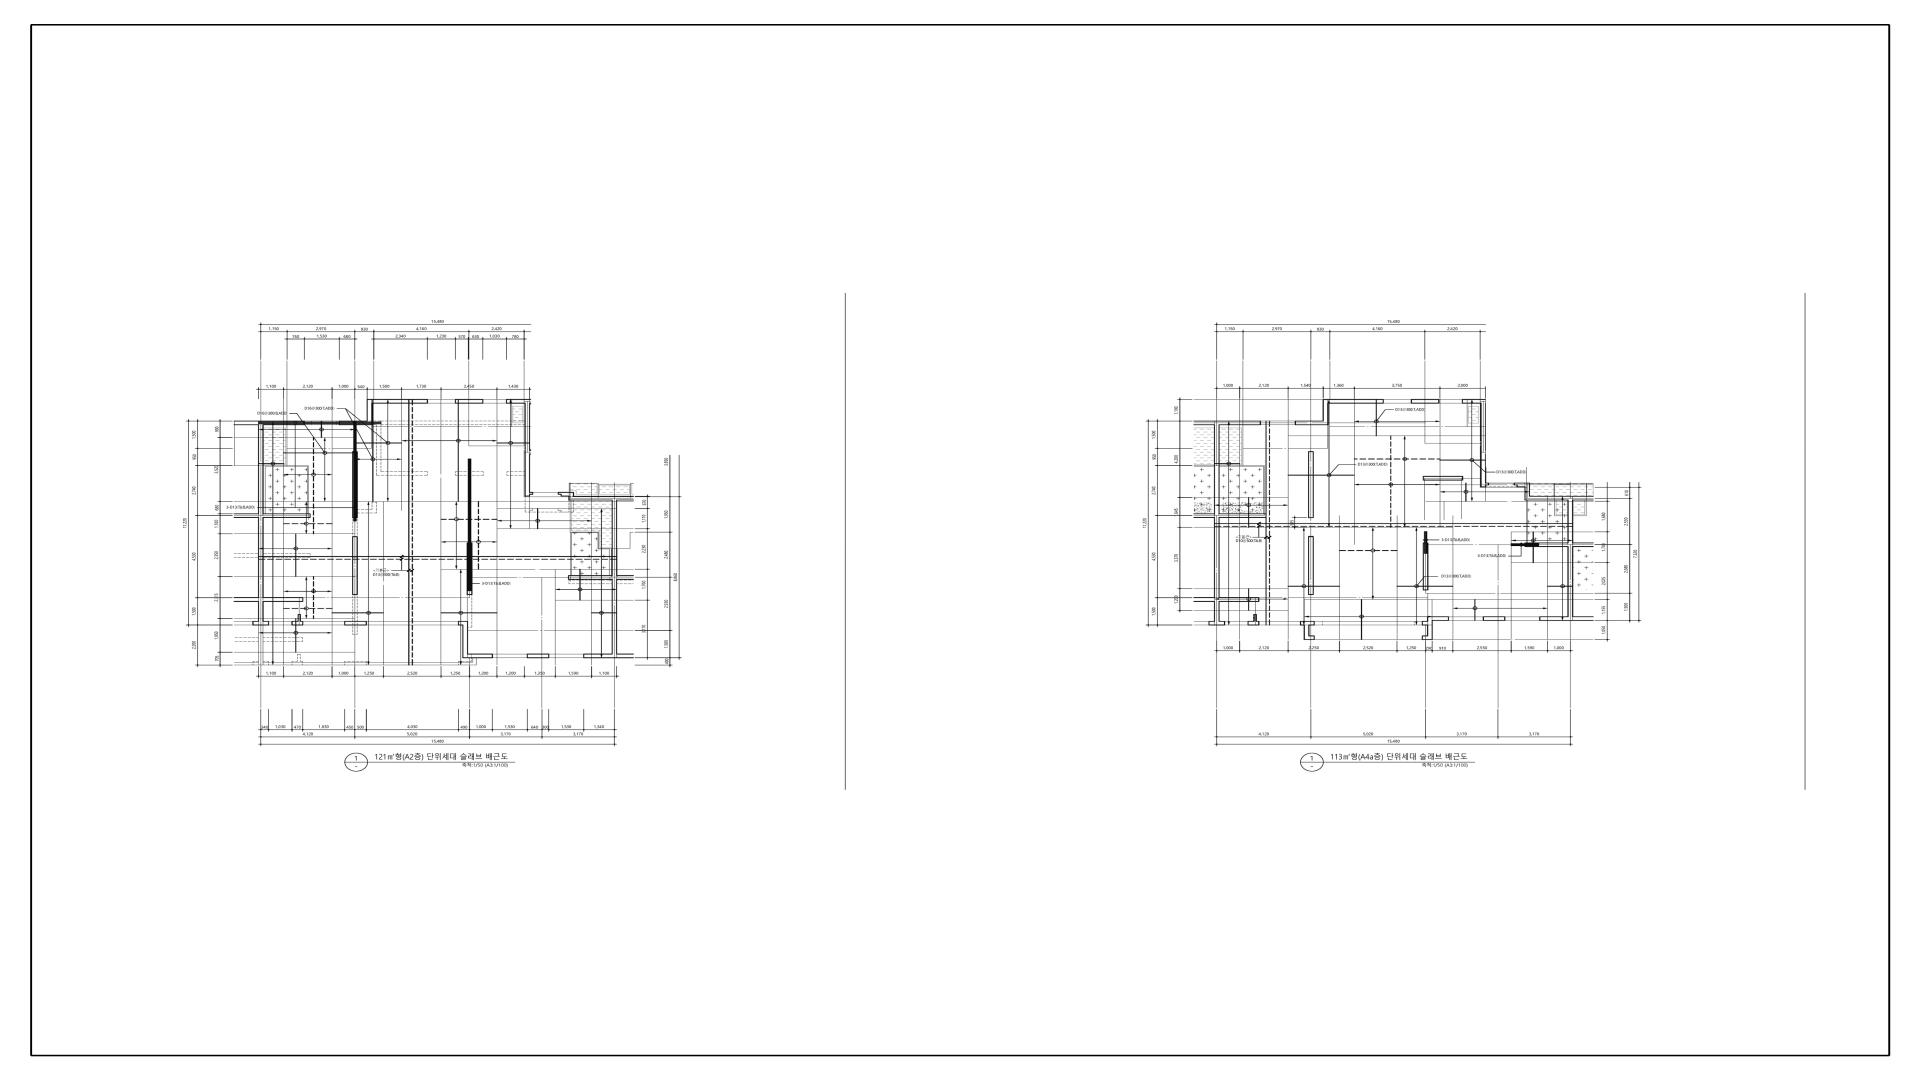wall: (1270, 524, 1573, 526), (409, 400, 413, 556), (1480, 404, 1486, 487), (525, 404, 530, 496), (258, 425, 264, 513), (1215, 425, 1220, 513), (409, 559, 413, 666), (1266, 421, 1270, 524), (1266, 526, 1270, 625), (612, 580, 617, 654), (472, 556, 617, 559), (264, 662, 409, 665), (1215, 526, 1220, 597), (1568, 547, 1573, 617), (352, 451, 357, 518), (1308, 451, 1313, 518), (1308, 537, 1313, 595), (352, 556, 467, 559), (612, 500, 617, 556), (264, 513, 311, 518), (467, 543, 472, 591), (258, 556, 352, 559), (1220, 513, 1266, 518), (413, 662, 473, 666), (568, 575, 612, 580), (468, 459, 471, 543), (1328, 400, 1383, 404), (258, 625, 264, 666), (1423, 476, 1464, 481), (264, 597, 303, 603), (1220, 597, 1259, 603), (258, 518, 264, 556), (258, 559, 264, 597), (574, 496, 612, 501), (1423, 554, 1428, 591), (352, 559, 357, 595), (264, 421, 305, 425), (1220, 421, 1261, 425), (463, 625, 468, 654), (1539, 616, 1568, 621), (1539, 542, 1568, 547), (1530, 496, 1568, 500), (1215, 524, 1270, 526), (373, 400, 409, 404), (367, 400, 373, 421), (233, 513, 258, 518), (233, 597, 258, 603), (1295, 421, 1328, 425), (1568, 500, 1573, 524), (463, 654, 493, 658), (1427, 616, 1449, 621), (455, 400, 484, 404), (583, 654, 612, 658), (1411, 400, 1440, 404), (1323, 400, 1328, 421), (1573, 496, 1594, 501), (1573, 616, 1594, 621), (1573, 542, 1594, 547), (1193, 513, 1215, 518), (352, 537, 357, 556), (1215, 601, 1220, 621), (233, 421, 258, 425), (258, 603, 264, 621), (1427, 621, 1432, 640), (235, 662, 258, 666), (1462, 400, 1486, 404), (1482, 617, 1506, 621), (617, 575, 634, 580), (1524, 483, 1530, 500), (344, 621, 367, 625), (527, 654, 550, 658), (612, 559, 617, 575), (1193, 421, 1215, 425), (1568, 526, 1573, 542), (1193, 597, 1215, 601), (353, 421, 356, 451), (1304, 625, 1309, 640), (506, 400, 525, 404), (252, 621, 269, 625), (356, 421, 373, 425), (617, 654, 634, 658), (617, 496, 634, 500), (413, 400, 429, 404), (1423, 542, 1428, 554), (1209, 621, 1225, 625), (339, 421, 353, 425), (1524, 543, 1539, 547), (1300, 621, 1315, 625), (568, 492, 574, 501), (291, 621, 303, 625), (1247, 621, 1259, 625), (458, 621, 468, 625), (558, 492, 568, 496), (1514, 483, 1524, 487), (1511, 543, 1524, 546), (472, 658, 476, 666), (1424, 531, 1427, 543), (258, 513, 264, 518), (258, 597, 264, 603), (612, 575, 617, 580), (1568, 616, 1573, 621), (1568, 542, 1573, 547), (1215, 518, 1220, 524), (1215, 513, 1220, 518), (1215, 597, 1220, 603), (525, 400, 531, 404), (1253, 615, 1257, 621), (258, 421, 264, 425), (467, 591, 472, 595), (612, 654, 617, 658), (612, 496, 617, 500), (1215, 421, 1220, 425), (1568, 496, 1573, 500), (1422, 621, 1427, 625), (1422, 636, 1427, 640), (1309, 636, 1315, 640), (298, 615, 301, 621), (353, 518, 357, 521), (530, 492, 533, 495), (1486, 483, 1489, 485)
